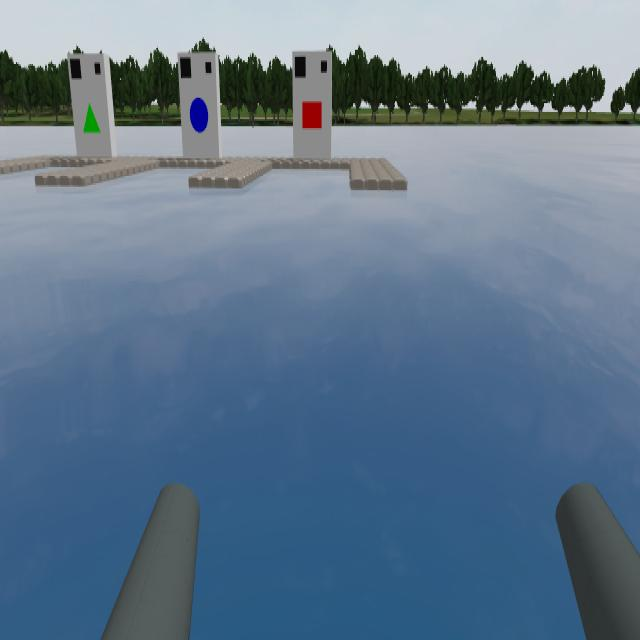dock: (178, 55, 221, 157), (68, 54, 110, 156), (293, 56, 331, 155)
